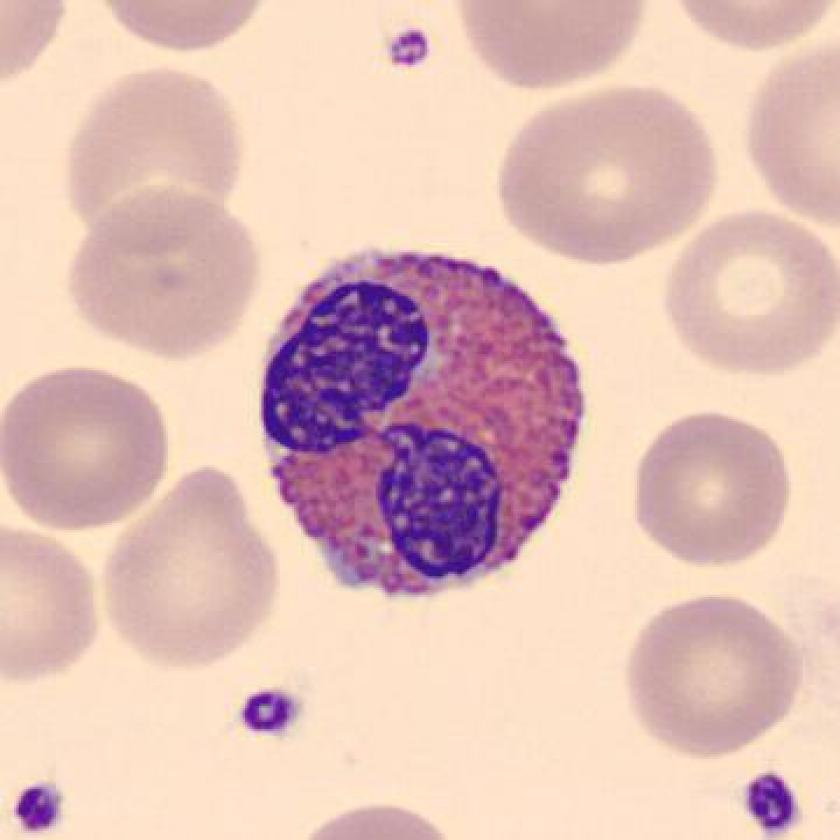eosinophil: (255, 232, 594, 612)
